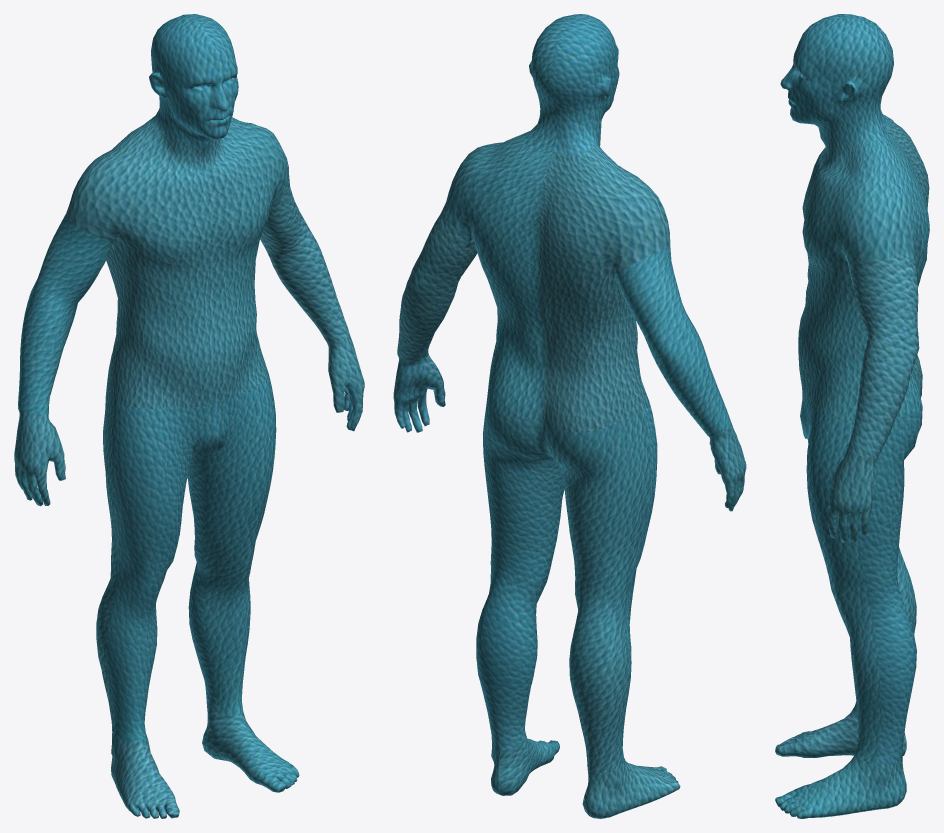
The model's file is character-5.obj.
The picture shows the model from 3 angles, left to right: view 1: azimuth 30°, elevation 25°; view 2: azimuth 150°, elevation 25°; view 3: azimuth 270°, elevation 25°; orthographic projection.
Visible parts, largest first — view 1: Realistic_White_Male_Low_Poly:Realistic_White_Male_Low_Poly; view 2: Realistic_White_Male_Low_Poly:Realistic_White_Male_Low_Poly; view 3: Realistic_White_Male_Low_Poly:Realistic_White_Male_Low_Poly.
Boxes of the visible parts, <box> form: Realistic_White_Male_Low_Poly:Realistic_White_Male_Low_Poly: <box>14,14,364,818</box>; Realistic_White_Male_Low_Poly:Realistic_White_Male_Low_Poly: <box>393,14,746,818</box>; Realistic_White_Male_Low_Poly:Realistic_White_Male_Low_Poly: <box>775,14,929,818</box>.
Bounding box in the file's own units: 33.63 × 72.02 × 13.22.
1 material, 1 textured.
